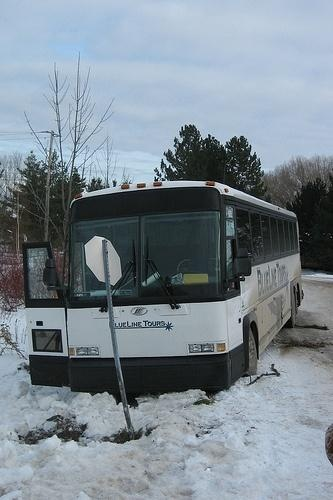bus: (22, 182, 306, 394)
